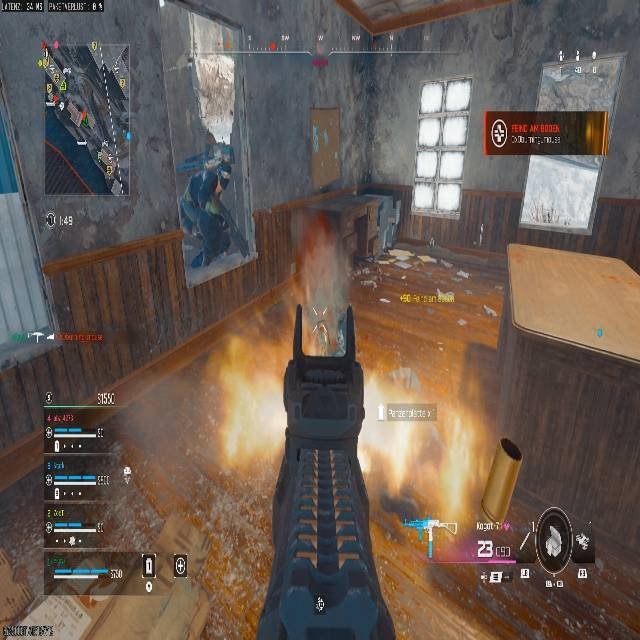head: (217, 157, 232, 176)
player: (180, 157, 233, 267)
